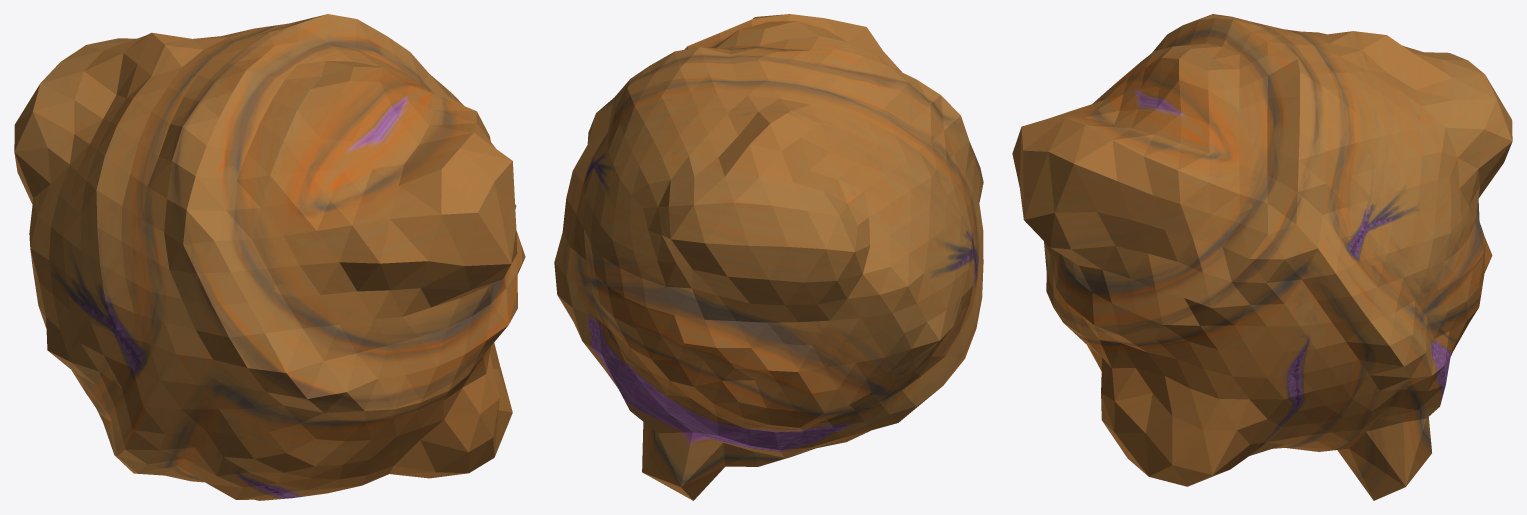
The model's file is asteroid01.obj.
3 views of the same model, side by side, from view 1: azimuth 30°, elevation 25°; view 2: azimuth 150°, elevation 25°; view 3: azimuth 270°, elevation 25° (orthographic). The views are drawn at different scales.
Parts seen in each view (by area): view 1: Icosphere; view 2: Icosphere; view 3: Icosphere.
Part boxes in pixels (left/top/right/bottom): Icosphere: left=14, top=14, right=525, bottom=500; Icosphere: left=554, top=14, right=983, bottom=500; Icosphere: left=1012, top=14, right=1512, bottom=500.
Size of the model in its own units: 2.11 by 2.35 by 2.4.
